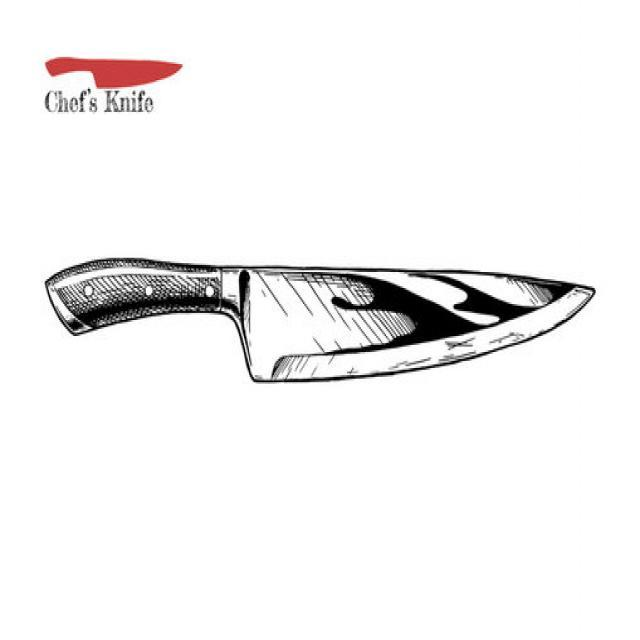knife: (34, 189, 608, 405)
